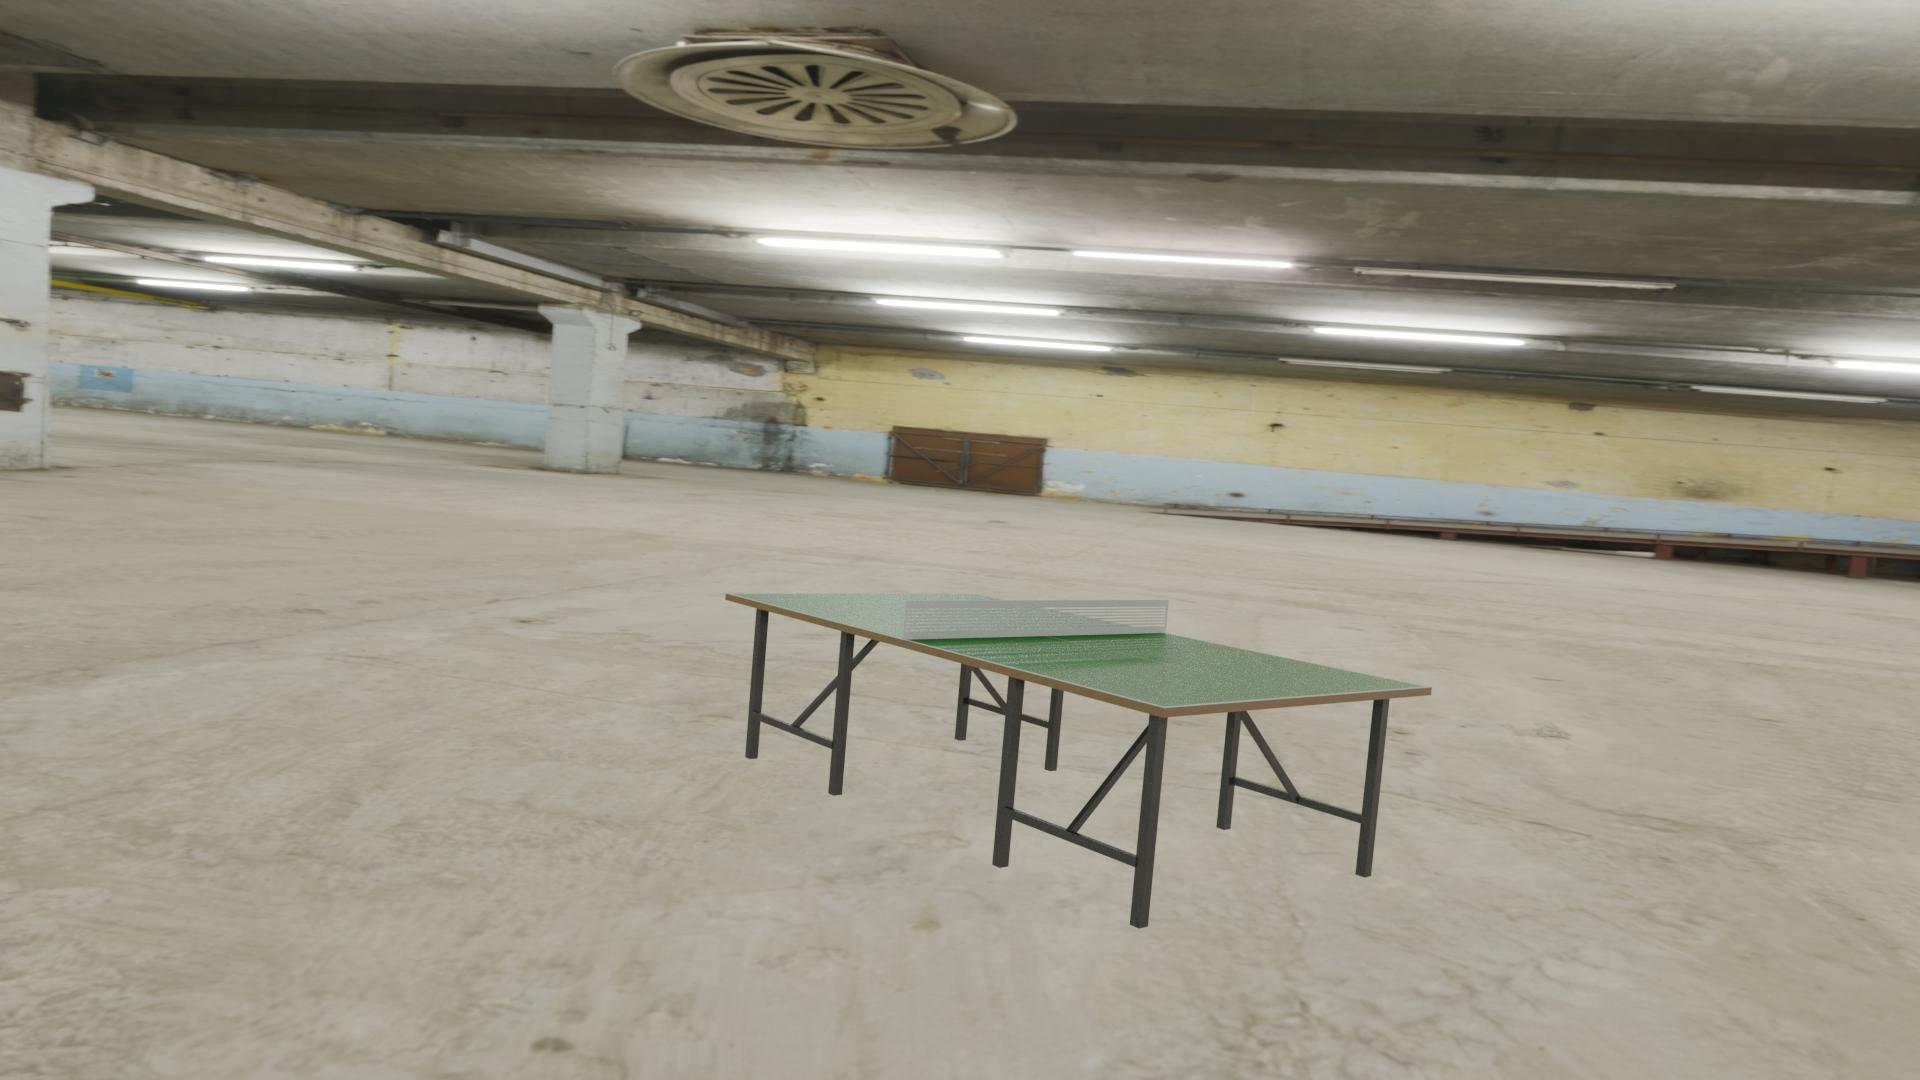table: (732, 593, 1424, 707)
